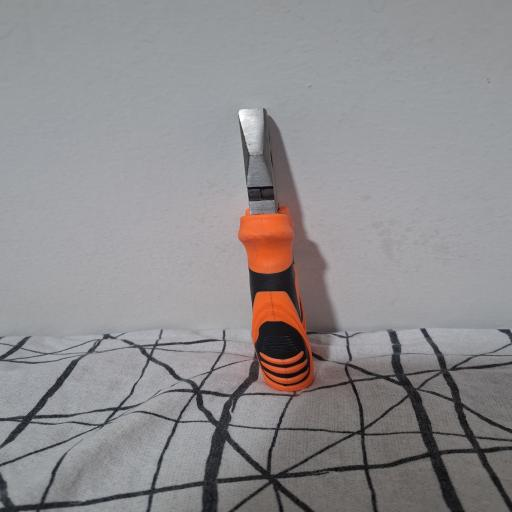alicate: (233, 107, 316, 396)
